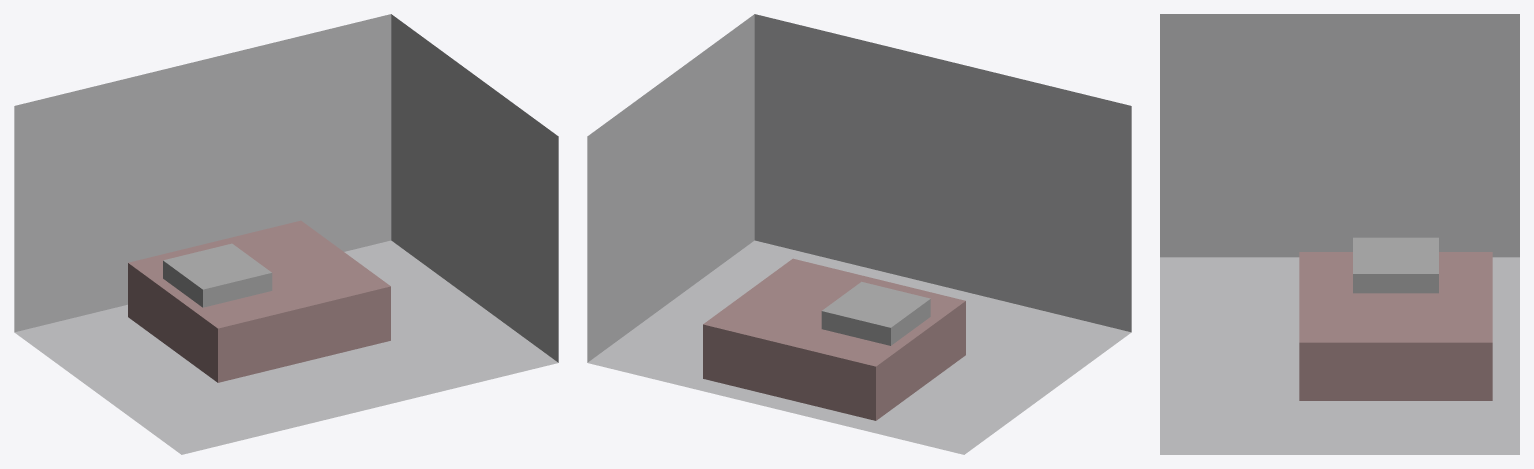
The model's file is optimised_layout.glb.
3 views of the same model, side by side, from view 1: azimuth 30°, elevation 25°; view 2: azimuth 150°, elevation 25°; view 3: azimuth 270°, elevation 25° (orthographic). The views are drawn at different scales.
Visible parts, largest first — view 1: room, bed, studyTable; view 2: room, bed, studyTable; view 3: room, bed, studyTable.
Part boxes in pixels (x1=…): room: x1=14, y1=14, x2=558, y2=454; bed: x1=128, y1=220, x2=390, y2=382; studyTable: x1=163, y1=243, x2=272, y2=307; room: x1=587, y1=14, x2=1131, y2=454; bed: x1=703, y1=258, x2=965, y2=420; studyTable: x1=821, y1=281, x2=930, y2=345; room: x1=1160, y1=14, x2=1519, y2=454; bed: x1=1299, y1=252, x2=1492, y2=400; studyTable: x1=1353, y1=237, x2=1438, y2=293.
Bounding box in the file's own units: 4.36 × 2.5 × 3.35.
